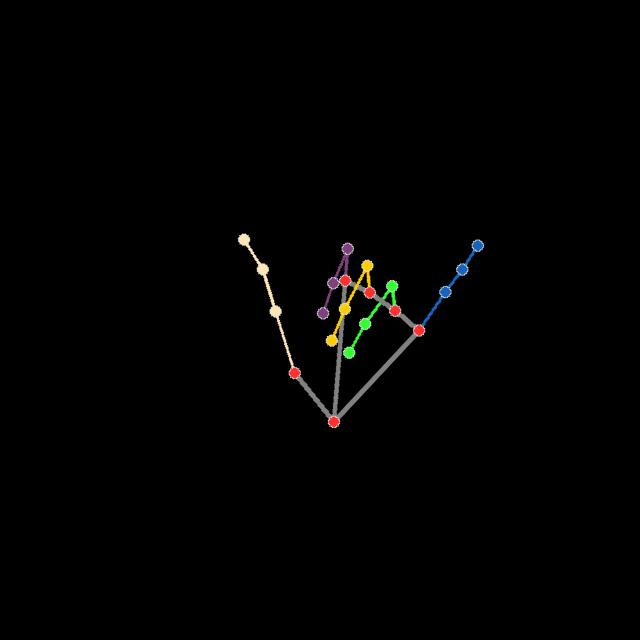skr: (234, 232, 487, 430)
